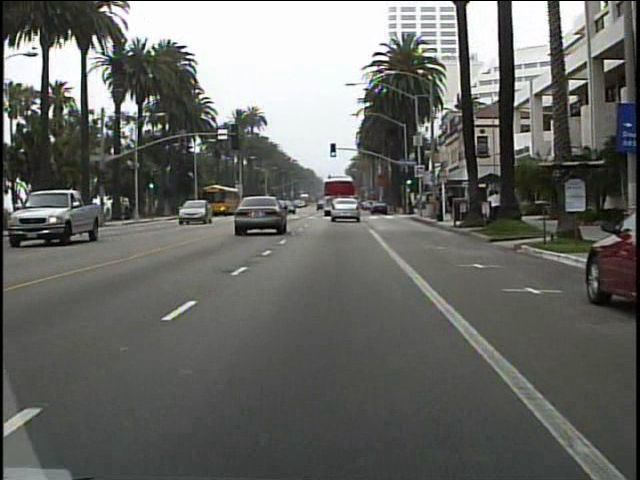person: (487, 189, 504, 226)
